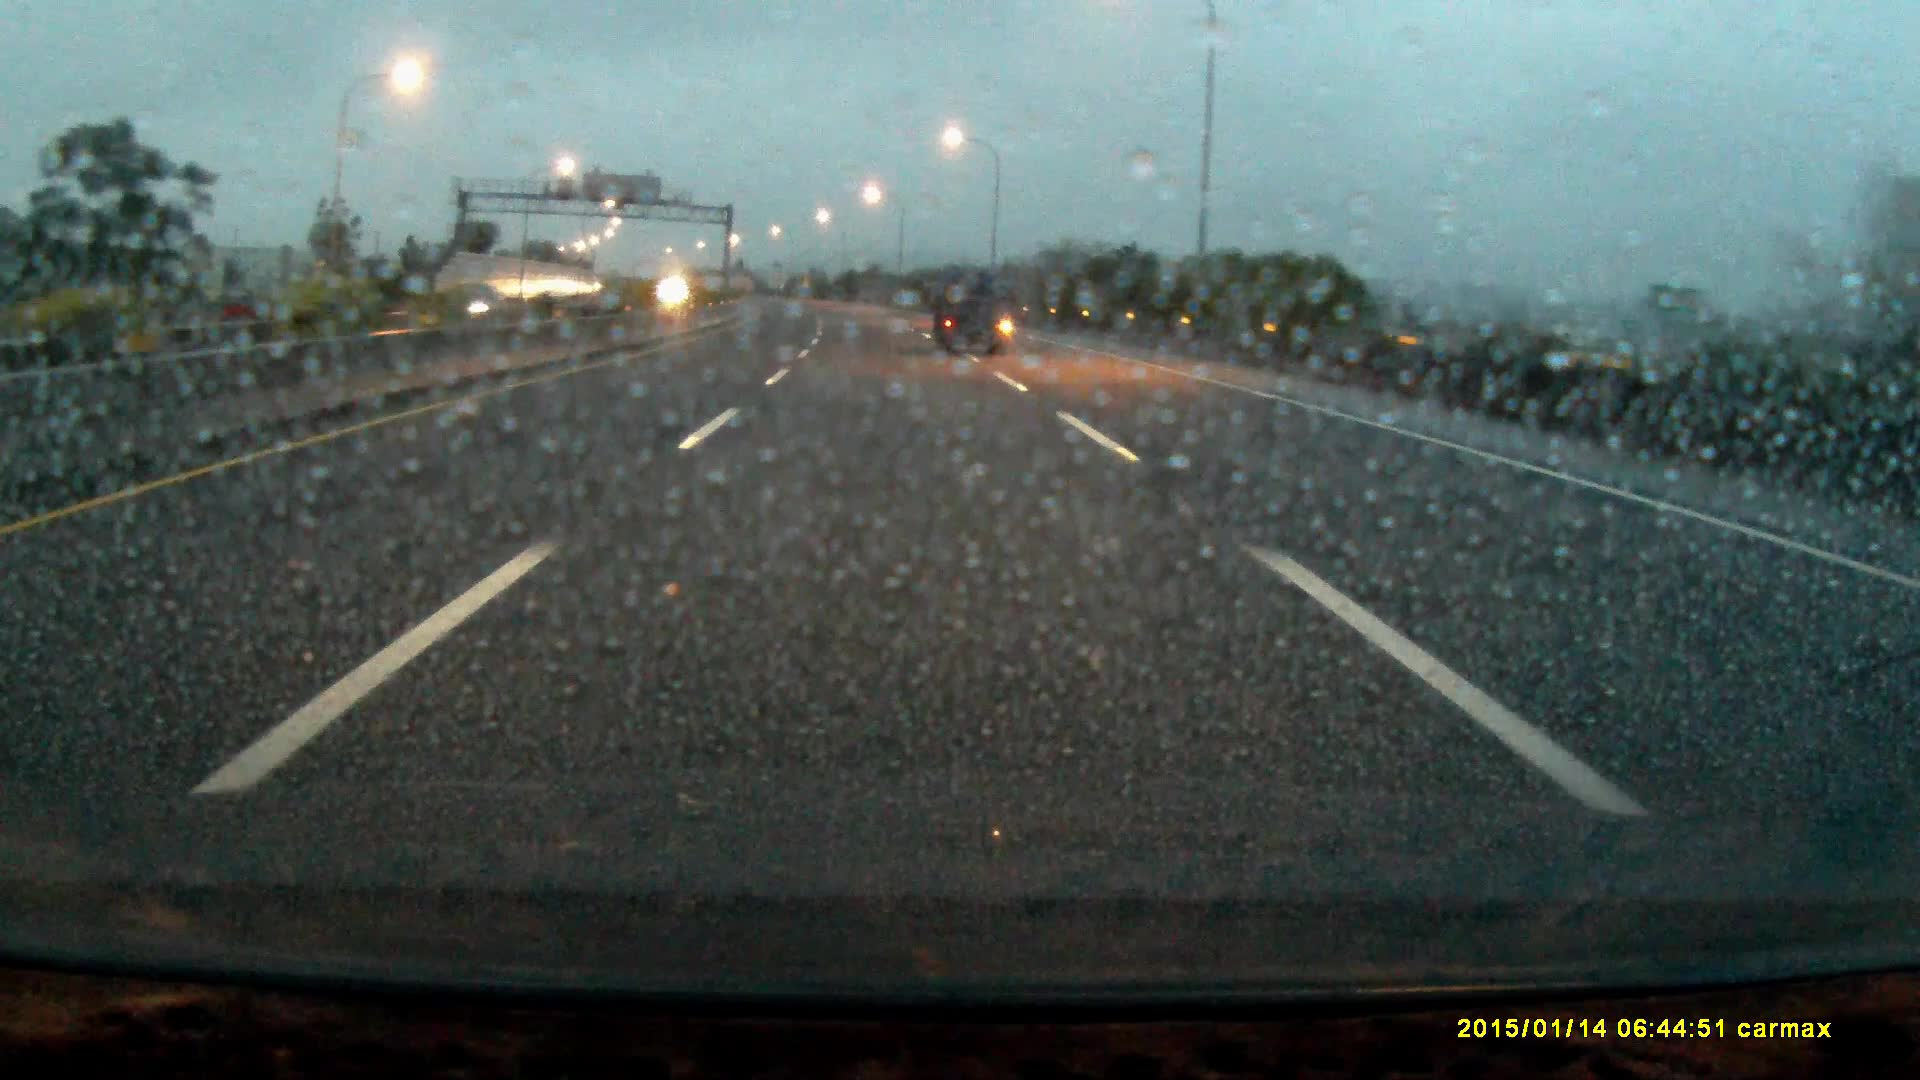vehicle: (931, 272, 1015, 357)
